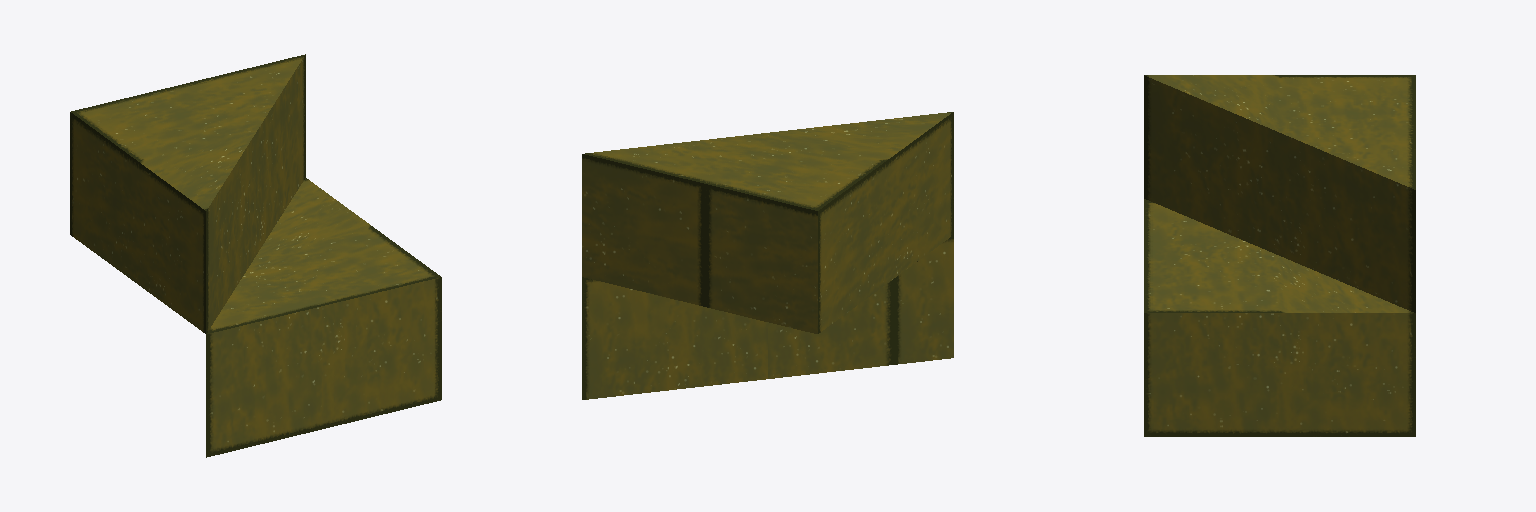
3 views of the same model, side by side, from view 1: azimuth 30°, elevation 25°; view 2: azimuth 150°, elevation 25°; view 3: azimuth 270°, elevation 25° (orthographic).
Parts seen in each view (by area): view 1: 10_path; view 2: 10_path; view 3: 10_path.
Part boxes in pixels (left/top/right/bottom): 10_path: left=70, top=54, right=441, bottom=457; 10_path: left=582, top=112, right=953, bottom=399; 10_path: left=1144, top=75, right=1415, bottom=436.
Size of the model in its own units: 1 by 1 by 1.
1 materials, 1 textured.